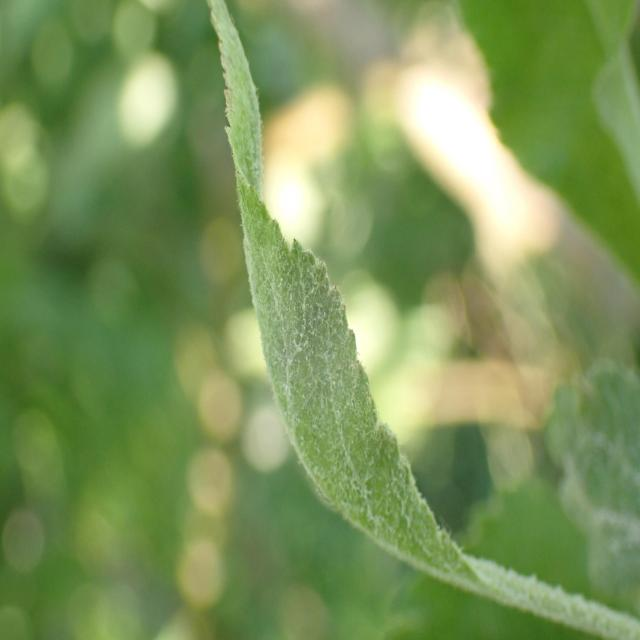Powdery_mildew: (196, 7, 548, 638)
